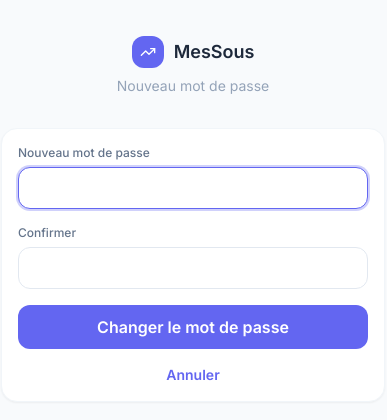
lien de réinitialisation › lien expiré : message clair ; annuler ramène à la connexion
The width and height of the screenshot is (387, 420).
Type "nouveau-mdp" into the password field labelled "Nouveau mot de passe" at (193, 188), box [18,167,368,209]
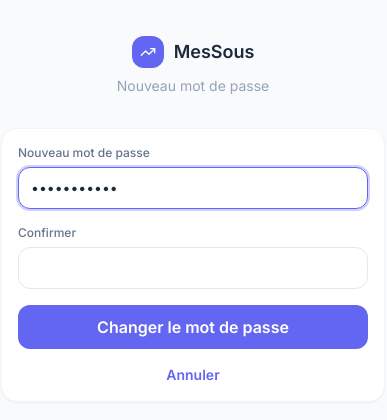
Type "nouveau-mdp" into the password field labelled "Confirmer" at (193, 268), box [18,247,368,289]
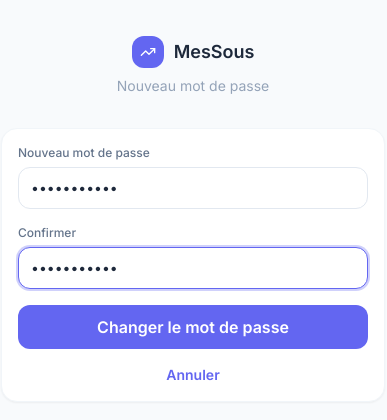
Click the button "Changer le mot de passe" at (193, 327), box [18,305,368,349]
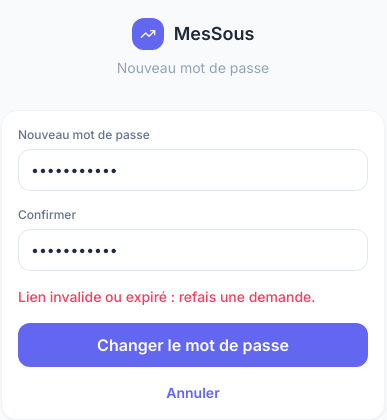
Now the text "Lien invalide ou expiré : refais une demande." is shown, box [18,287,368,307]
Click the button "Annuler" at (193, 393), box [166,383,220,403]
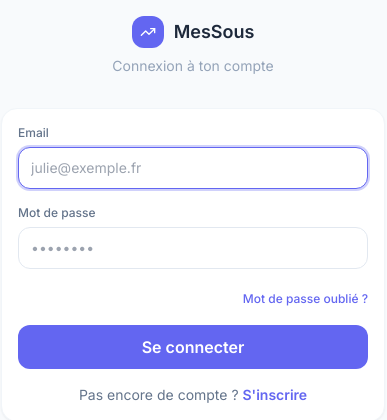
Now the button "Se connecter" is shown, box [18,325,368,369]
